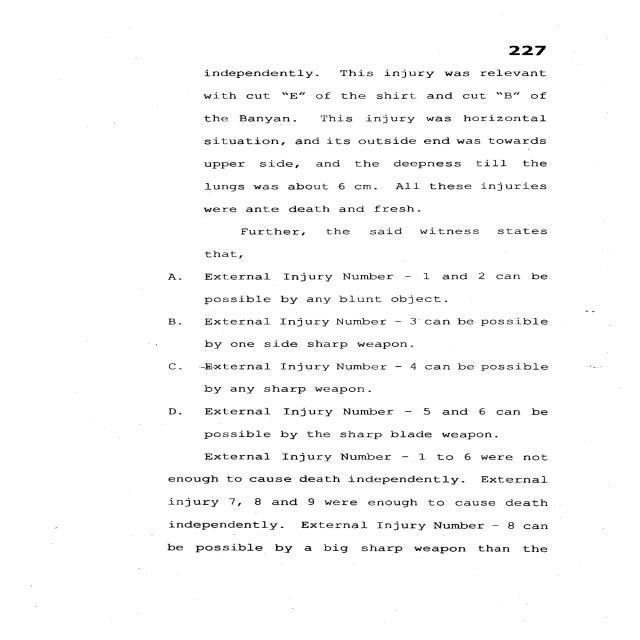page-number: (418, 0, 632, 60)
